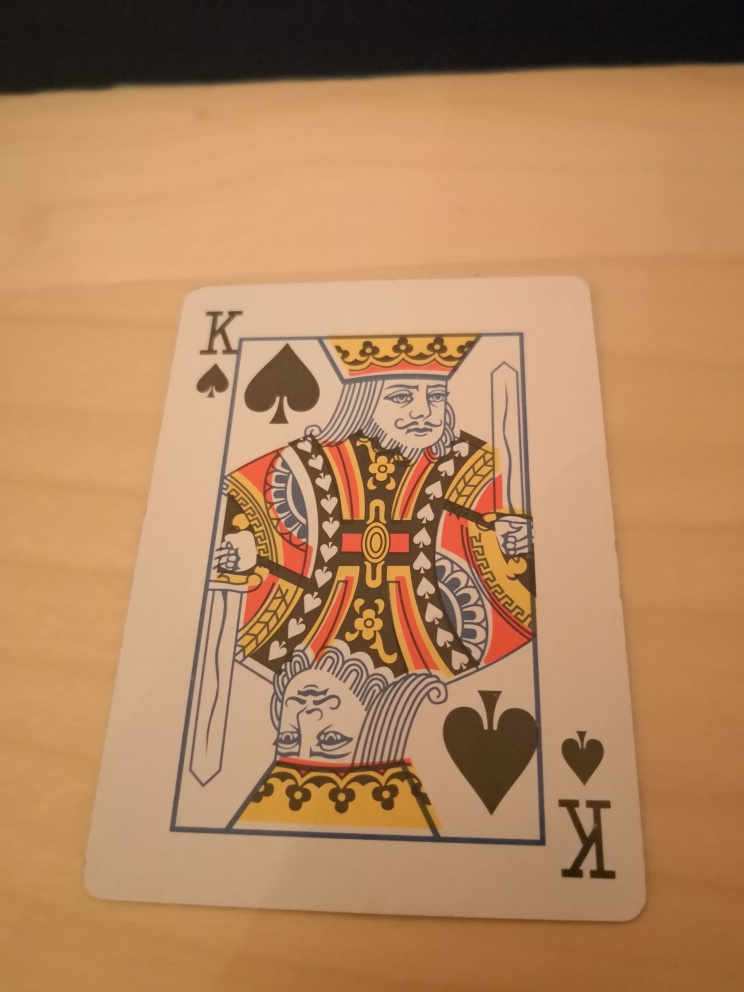king: (83, 275, 648, 922)
